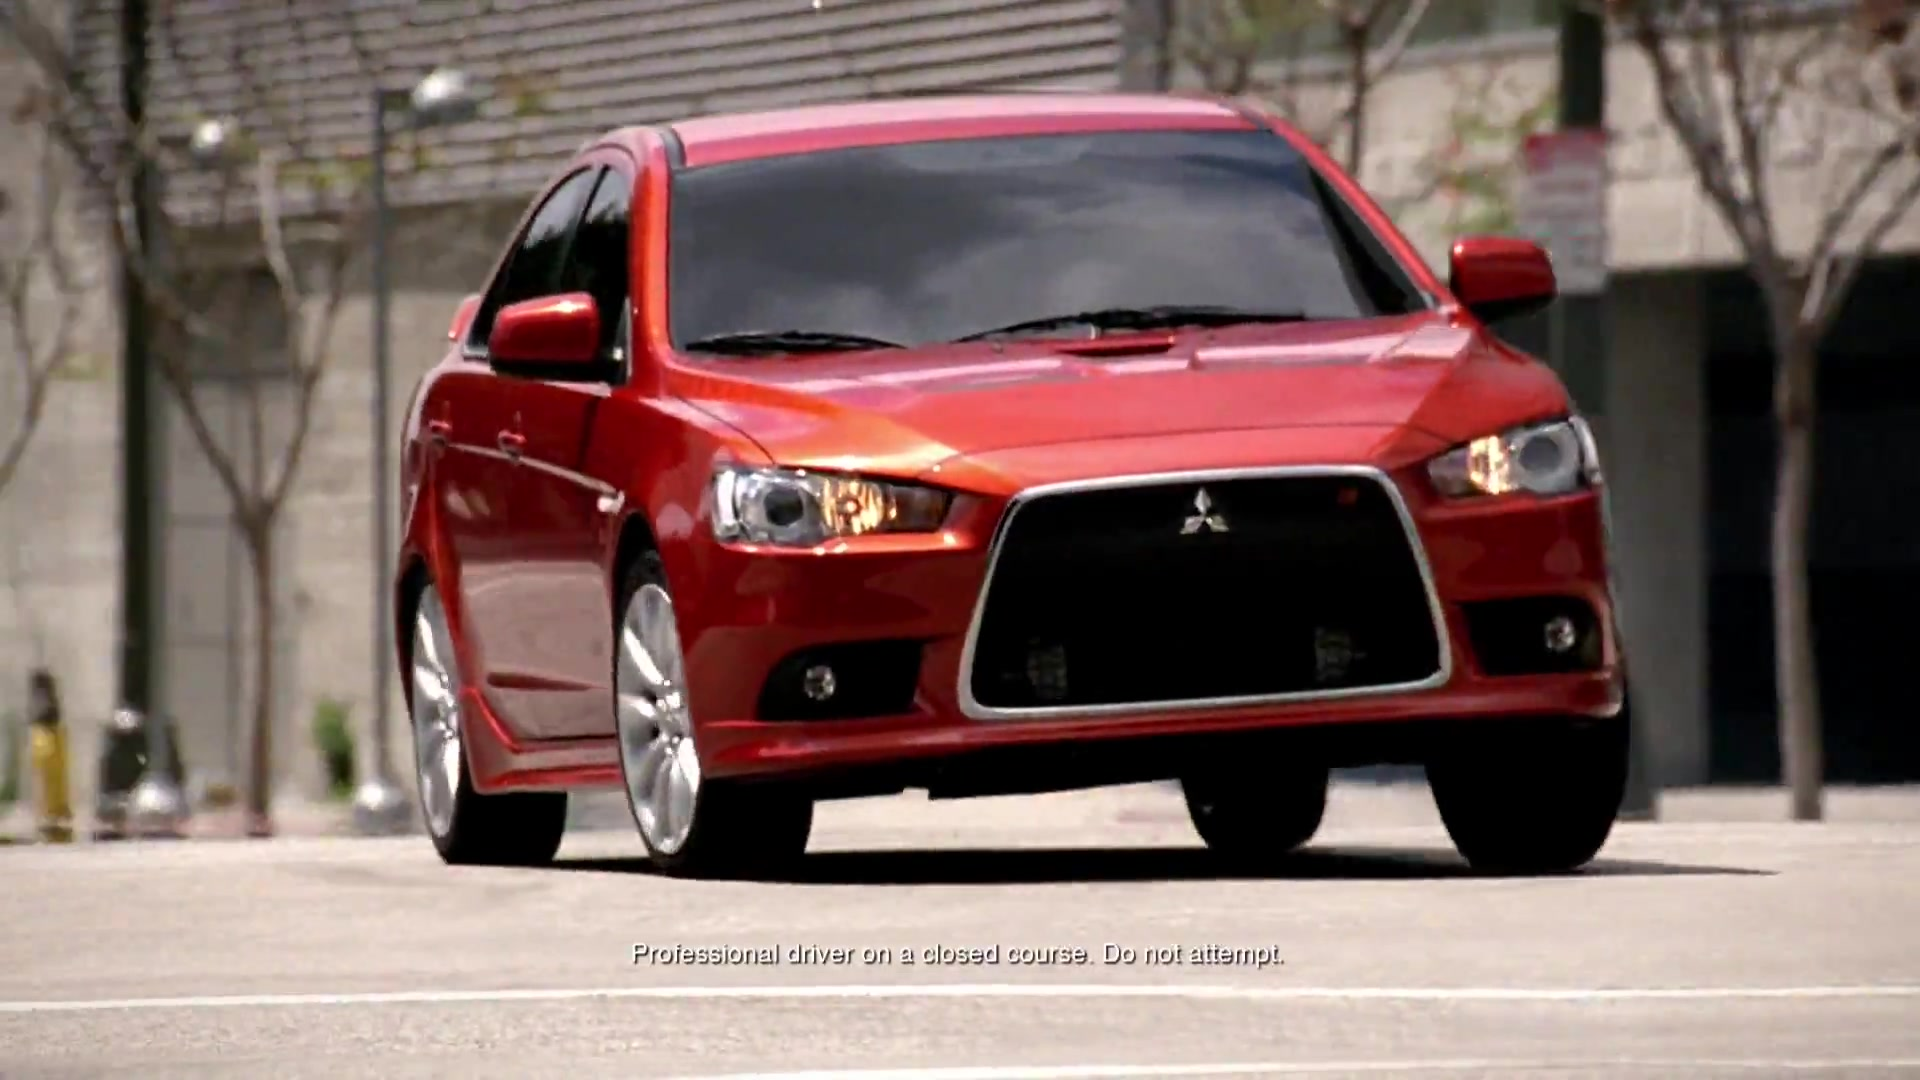car: (385, 87, 1640, 881)
